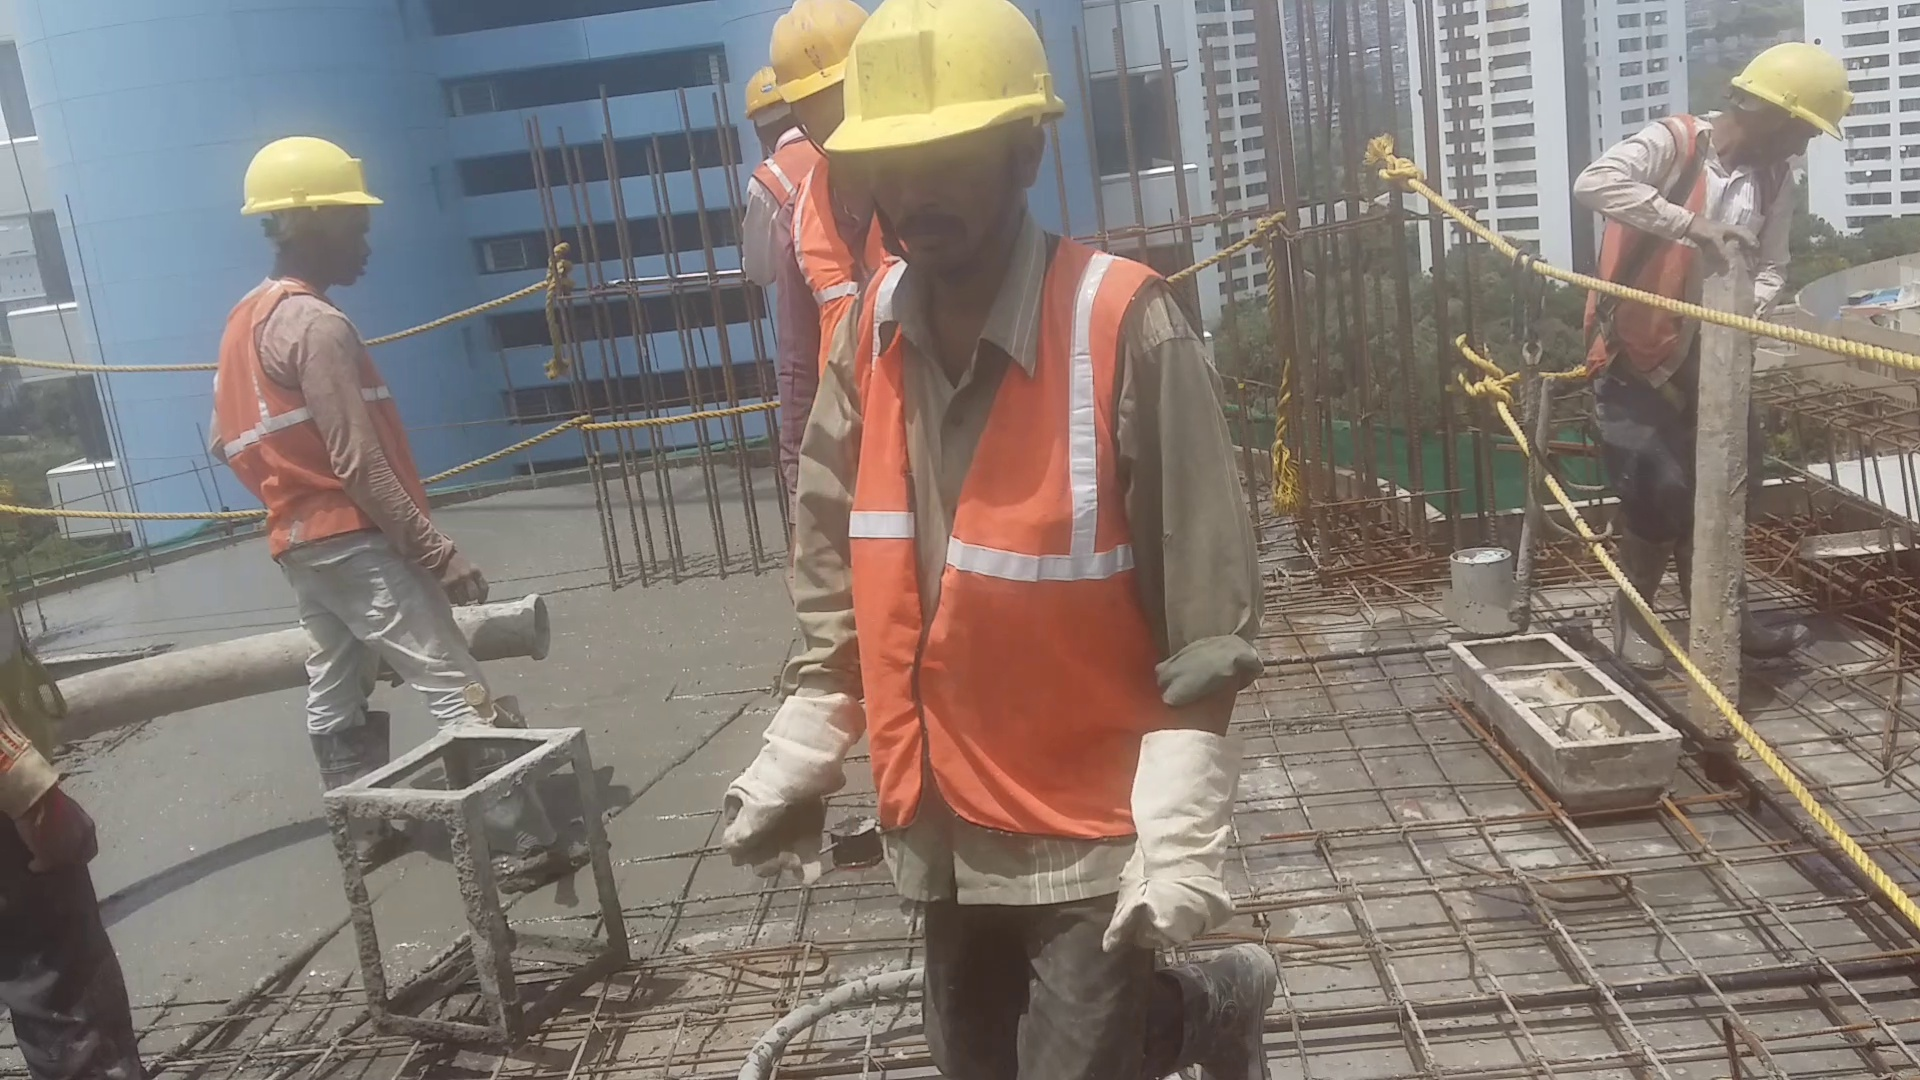SAFE: (802, 1, 1158, 844), (1586, 28, 1853, 377), (214, 133, 402, 547)
